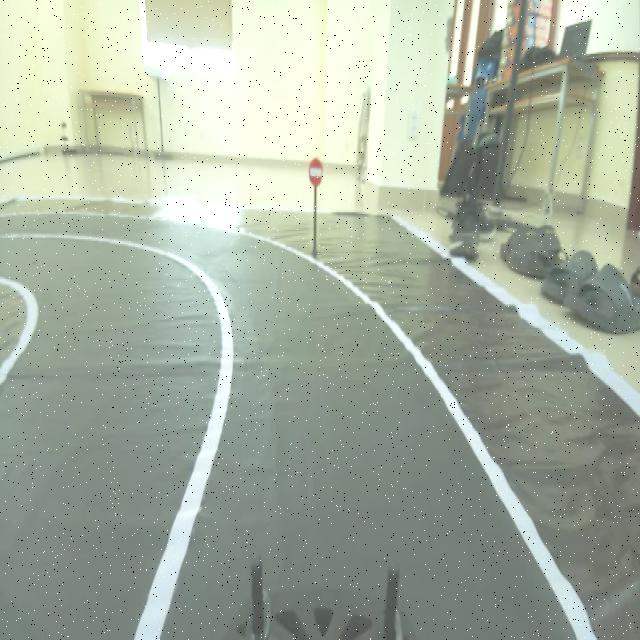no_entry: (303, 156, 329, 193)
